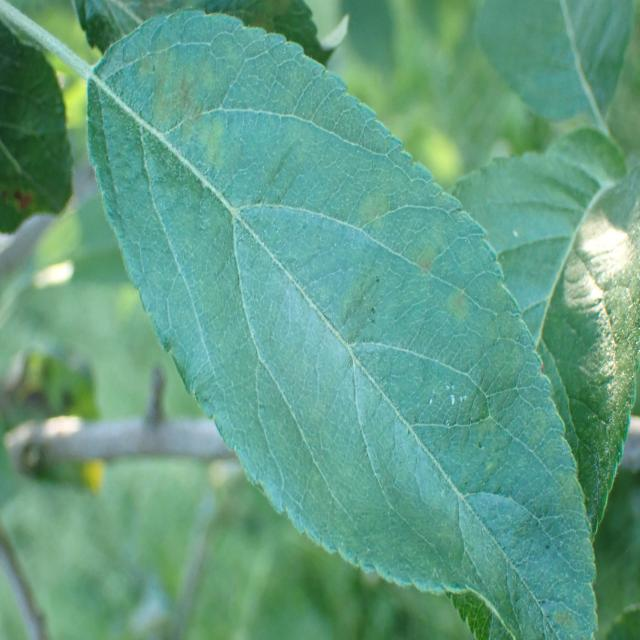scab: (130, 13, 590, 636)
